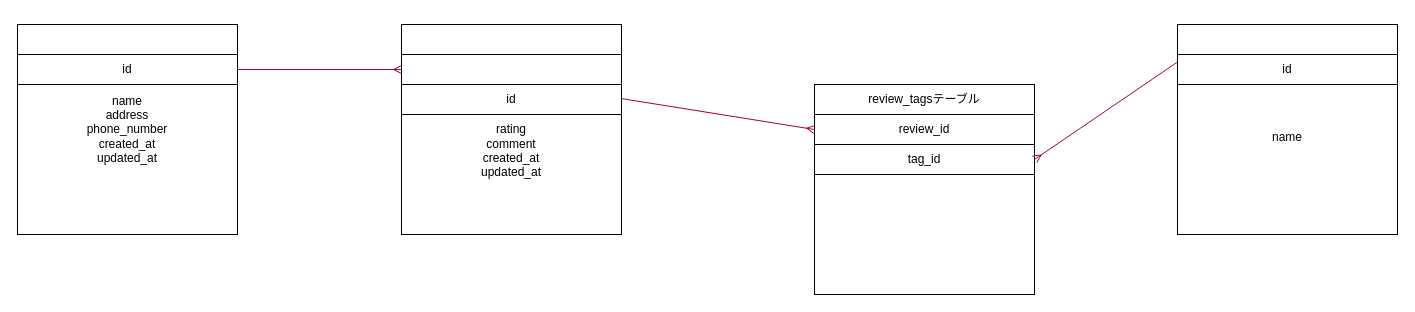
Some shapes in this 1415 by 312 pixel diagram are drawn without their labels. Here are the shapes that lost their labels. From the top down, the centre of each, then its label:
point 127,39: restaurantsテーブル
point 511,39: reveiwsテーブル
point 1287,39: tagsテーブル
point 511,69: restaurant_id
